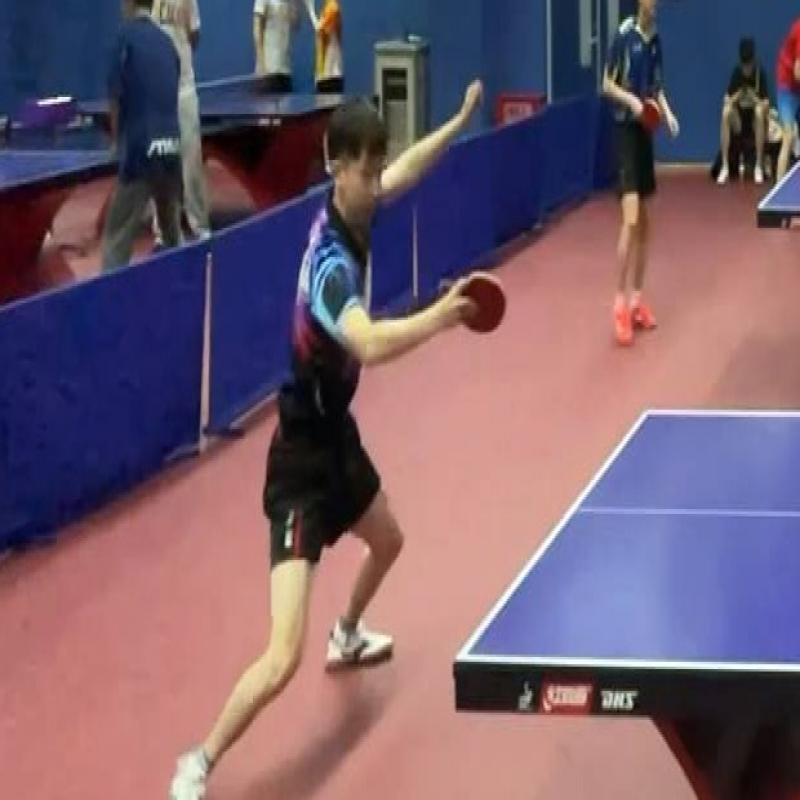bats: (431, 252, 519, 354)
